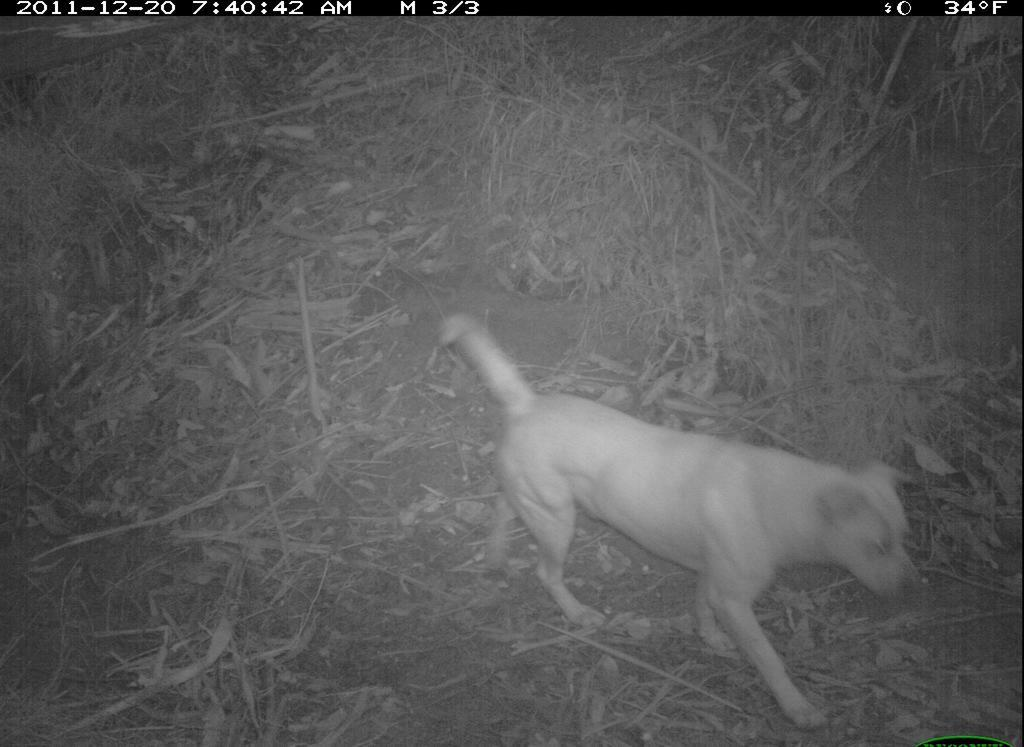dog: (436, 303, 926, 729)
